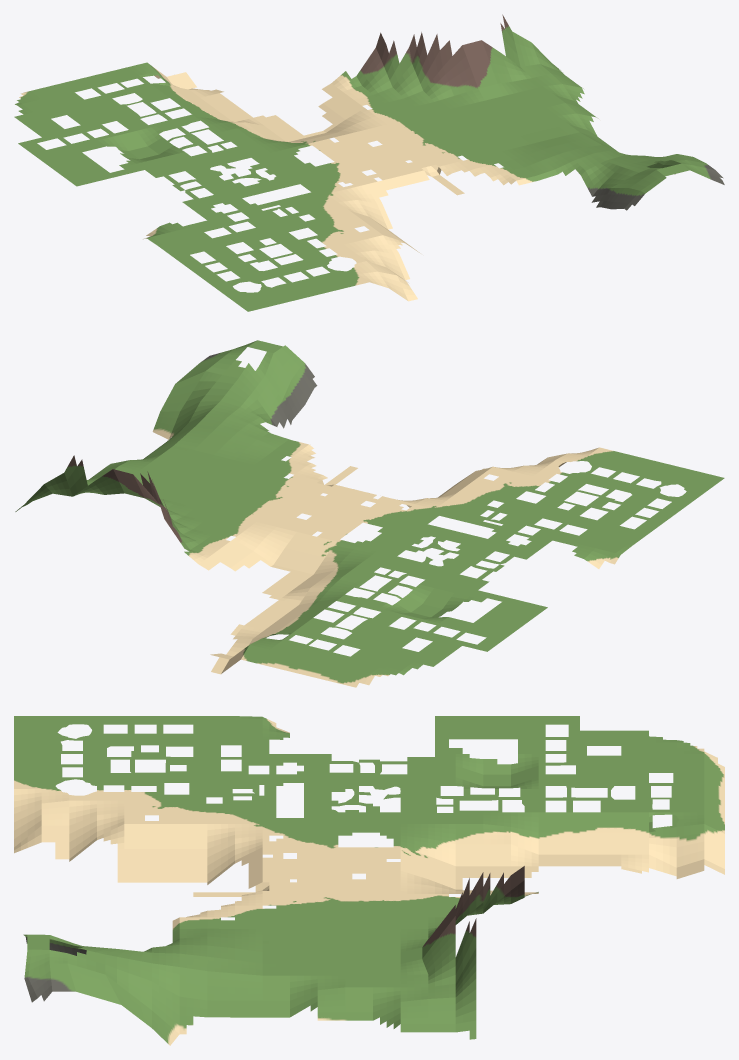
File: mechislandnavmesh.fbx
The picture shows the model from 3 angles, top to bottom: view 1: azimuth 30°, elevation 25°; view 2: azimuth 150°, elevation 25°; view 3: azimuth 270°, elevation 25°; orthographic projection. The views are drawn at different scales.
Parts seen in each view (by area): view 1: Plane.002; view 2: Plane.002; view 3: Plane.002.
Part boxes in pixels (x1,y1,x2,y2): Plane.002: [14, 14, 724, 311]; Plane.002: [15, 340, 724, 687]; Plane.002: [14, 716, 724, 1045].
Size of the model in its own units: 46480 by 7170 by 46480.
1 material, 1 textured.
